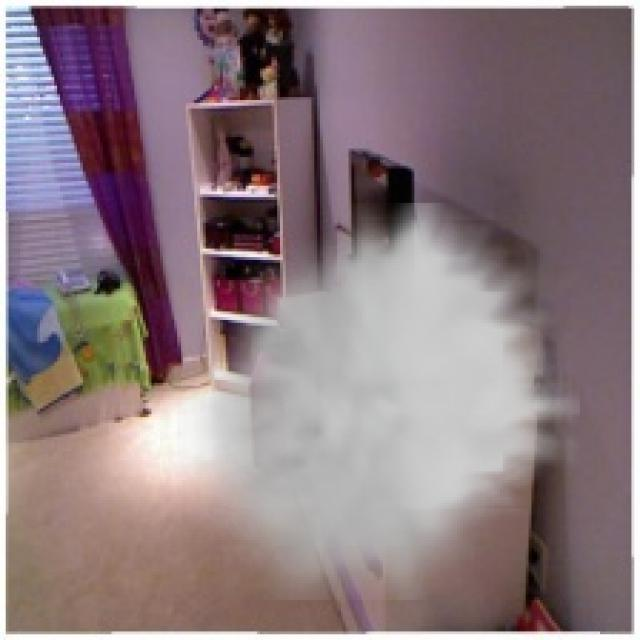Smoke: (177, 203, 580, 600)
